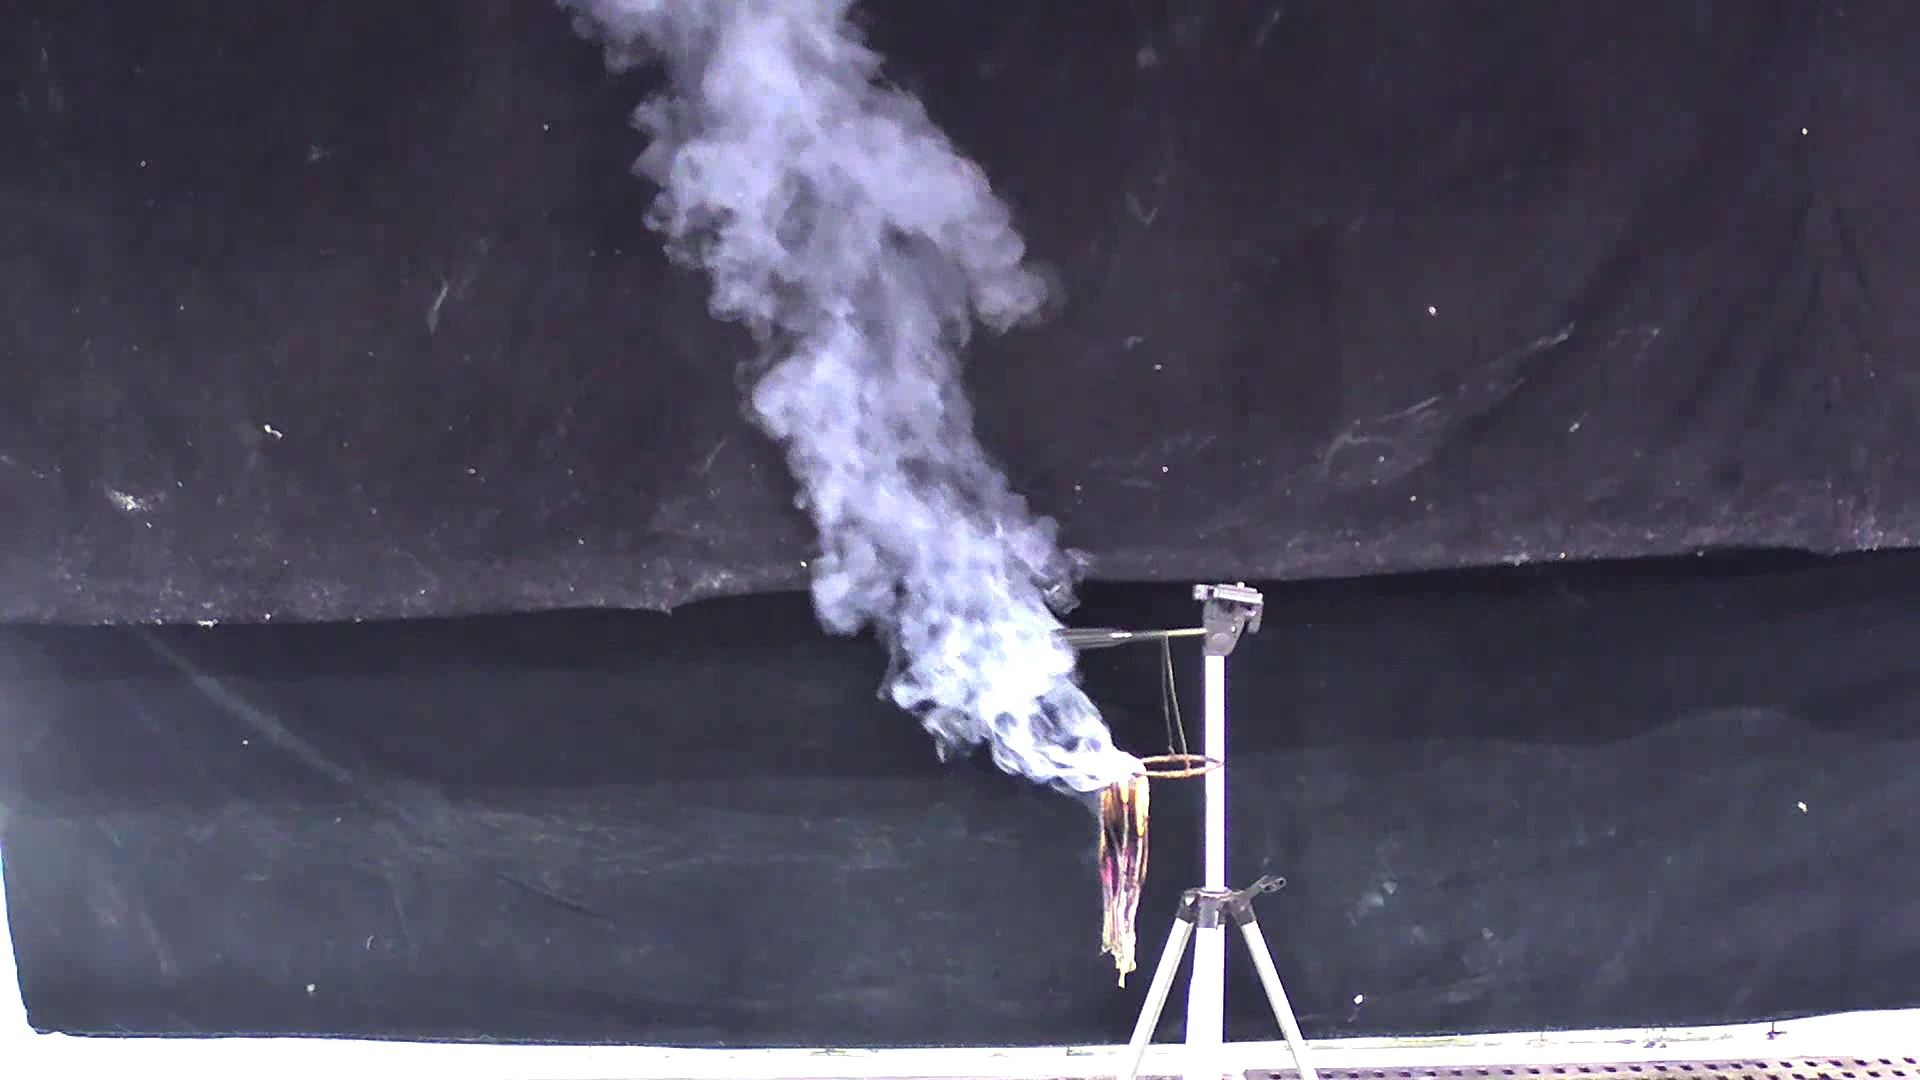smoke: (583, 11, 1142, 816)
